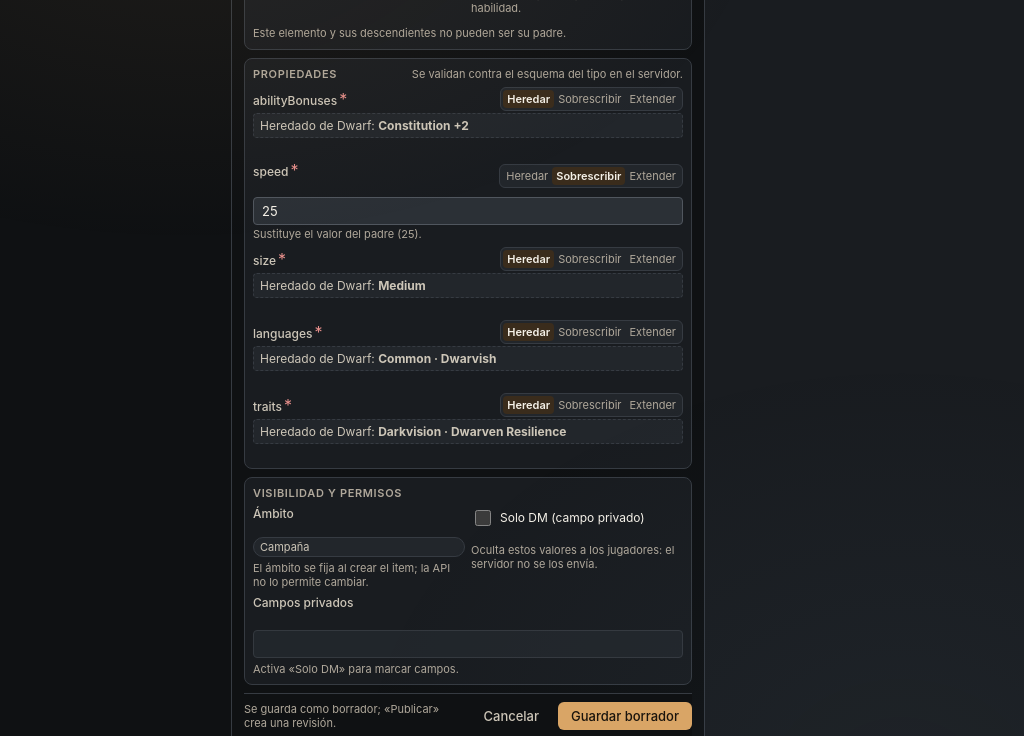
Test: Editor universal real (PMB-4.4) › refleja el error de campo del servidor, marca el control y lo enfoca
(page scrolled)
Click the button "Guardar borrador" at {"x": 625, "y": 716}, box [558,702,692,730]
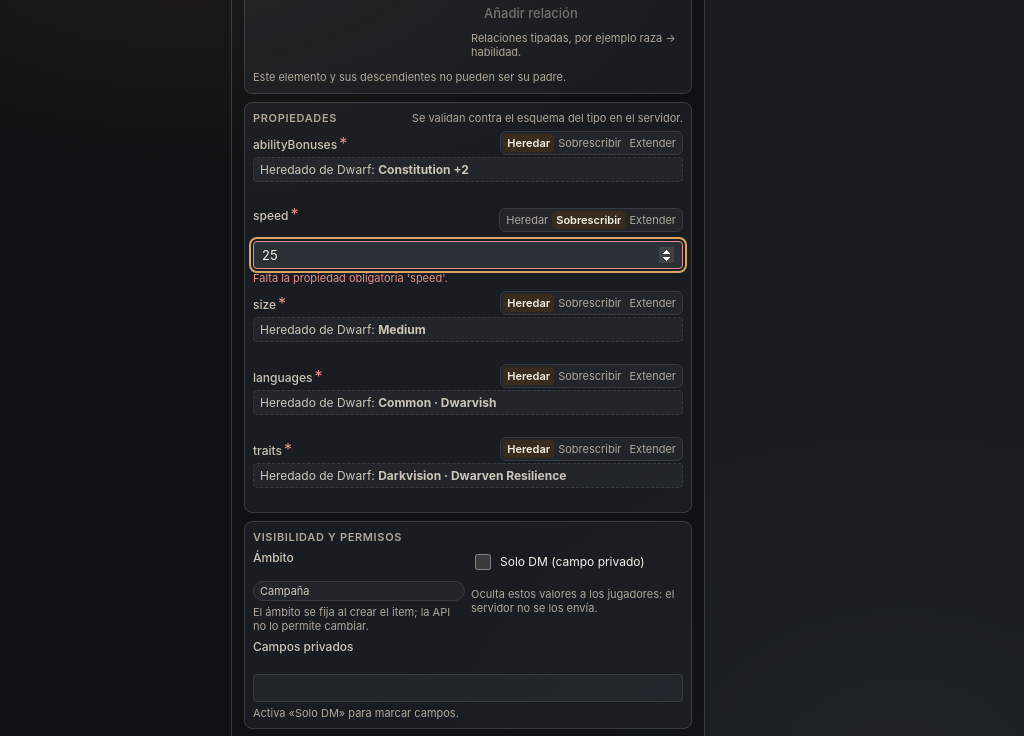
Check: the text with id "speed-error" reads "Falta la propiedad obligatoria 'speed'.", box [253,271,448,285]
